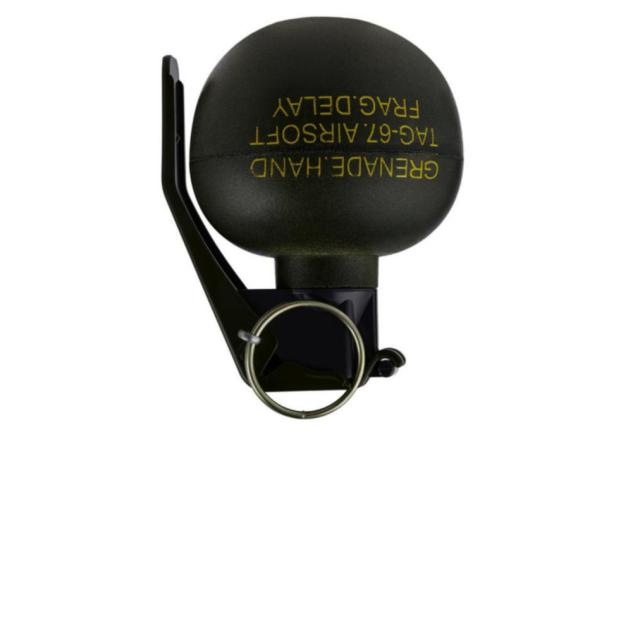grenade: (161, 15, 465, 421)
